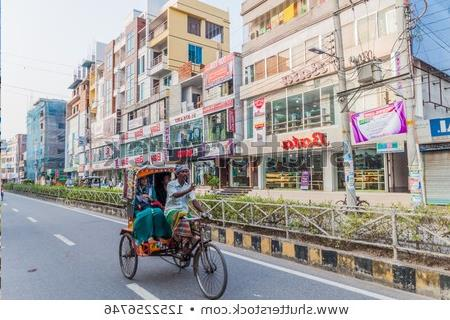Rickshaw: (109, 162, 232, 296)
